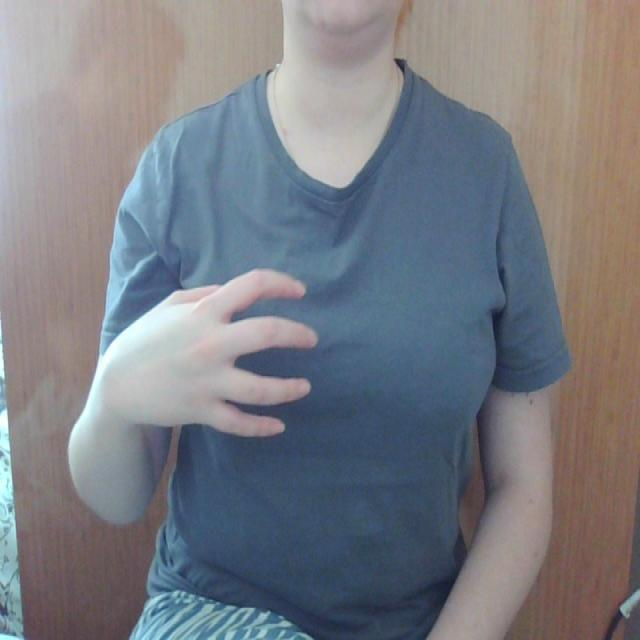Anne: (88, 238, 346, 449)
